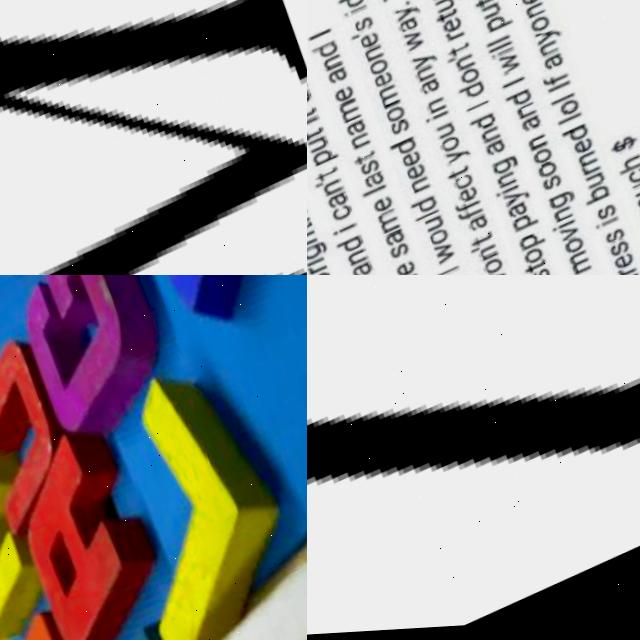A: (0, 406, 191, 640), (328, 191, 353, 212), (385, 231, 410, 252), (364, 171, 389, 192), (344, 120, 369, 141), (326, 67, 351, 88), (469, 216, 494, 237), (418, 81, 443, 102), (396, 18, 421, 39), (542, 56, 567, 77), (508, 205, 531, 226), (485, 140, 508, 161), (521, 117, 544, 138), (353, 261, 378, 275)
B: (584, 188, 614, 212)
C: (332, 204, 357, 225), (453, 175, 478, 196), (628, 171, 640, 192)
D: (504, 91, 534, 116), (337, 236, 367, 260), (311, 41, 341, 65), (389, 139, 419, 163), (458, 84, 488, 108), (562, 127, 592, 151), (412, 197, 440, 221), (470, 116, 497, 139), (336, 0, 366, 16)
E: (373, 196, 398, 217), (333, 86, 358, 107), (405, 165, 430, 186), (400, 152, 425, 173), (371, 72, 396, 93), (357, 33, 382, 54), (458, 188, 483, 209), (442, 18, 465, 39), (574, 140, 597, 161), (616, 256, 639, 275), (395, 262, 420, 275), (519, 0, 542, 11)
F: (459, 209, 487, 227), (455, 201, 483, 219), (542, 75, 570, 93)
G: (0, 275, 197, 474), (492, 158, 522, 182), (549, 192, 579, 216), (307, 240, 332, 264)
H: (615, 158, 640, 182), (307, 230, 321, 255), (307, 208, 313, 233)
I: (553, 222, 580, 239), (497, 187, 524, 202), (334, 224, 360, 239), (490, 49, 516, 64), (343, 6, 368, 21), (426, 113, 451, 128), (307, 29, 333, 43), (466, 103, 489, 117), (503, 80, 526, 94), (550, 84, 573, 98), (307, 257, 326, 272), (598, 223, 621, 235), (307, 116, 321, 131), (439, 268, 461, 275)
L: (73, 358, 307, 640), (487, 44, 514, 59), (485, 37, 511, 52), (416, 213, 442, 227), (364, 186, 388, 201), (558, 117, 582, 131), (551, 98, 575, 111)
M: (0, 0, 307, 275), (376, 85, 404, 113), (378, 211, 405, 238), (337, 101, 364, 128), (570, 255, 595, 275)
N: (64, 275, 307, 360), (323, 179, 348, 200), (350, 134, 375, 155), (320, 55, 345, 76), (410, 178, 435, 199), (479, 246, 504, 267), (413, 66, 438, 87), (362, 46, 386, 67), (349, 248, 372, 269), (481, 129, 504, 150), (454, 56, 477, 77), (554, 209, 577, 230), (527, 137, 550, 158), (516, 104, 539, 125), (578, 154, 601, 175), (539, 44, 562, 65), (524, 4, 547, 25), (427, 99, 448, 119), (498, 175, 519, 195)
O: (439, 137, 463, 159), (428, 230, 453, 251), (383, 107, 408, 128), (368, 60, 391, 81), (525, 251, 548, 272), (459, 70, 482, 91), (565, 240, 588, 261), (537, 164, 560, 185), (533, 151, 556, 172), (560, 101, 583, 122), (529, 18, 552, 39), (483, 260, 508, 275)
P: (519, 233, 549, 258), (483, 14, 513, 39), (311, 145, 342, 169), (513, 214, 543, 238)
R: (0, 448, 64, 640), (583, 167, 604, 182), (446, 32, 465, 45), (310, 264, 329, 275), (620, 268, 640, 275), (430, 0, 449, 4)
S: (390, 243, 415, 265), (358, 159, 383, 180), (389, 120, 414, 141), (351, 17, 376, 38), (542, 178, 565, 199), (612, 244, 635, 265), (607, 232, 630, 253), (598, 207, 621, 228), (532, 269, 555, 275)
T: (447, 44, 472, 63), (473, 235, 497, 254), (316, 169, 340, 186), (448, 168, 472, 185), (436, 11, 460, 28), (354, 153, 377, 169), (474, 0, 498, 14), (307, 128, 325, 145), (527, 263, 550, 275), (376, 0, 407, 7), (307, 108, 317, 125), (307, 222, 315, 241)
U: (307, 275, 640, 636), (0, 334, 97, 522), (434, 124, 459, 145), (307, 136, 331, 157), (425, 217, 448, 238), (480, 4, 503, 25), (586, 175, 609, 196), (433, 0, 456, 19), (632, 184, 640, 205), (307, 89, 314, 110)
V: (560, 228, 583, 249)
W: (0, 597, 130, 640), (432, 243, 460, 270), (401, 30, 428, 57), (498, 54, 523, 80)
Y: (408, 51, 439, 76), (444, 148, 474, 172), (392, 3, 422, 27), (503, 189, 533, 213), (533, 28, 563, 52)
